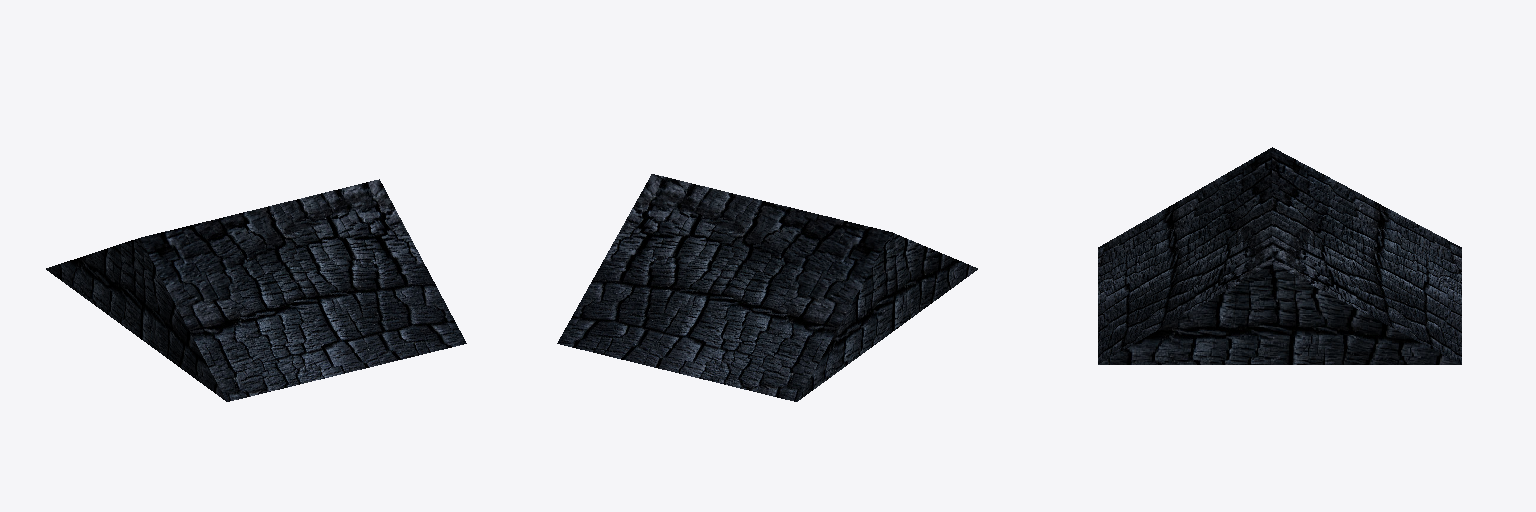
3 renders of one model, left to right at view 1: azimuth 30°, elevation 25°; view 2: azimuth 150°, elevation 25°; view 3: azimuth 270°, elevation 25°, orthographic.
Visible parts, largest first — view 1: pPrism2; view 2: pPrism2; view 3: pPrism2.
Boxes of the visible parts, x1,y1,x2,y2 form: pPrism2: [46, 179, 466, 401]; pPrism2: [557, 174, 977, 401]; pPrism2: [1098, 147, 1461, 364].
Size of the model in its own units: 10.8 by 4.33 by 14.22.
1 materials, 1 textured.